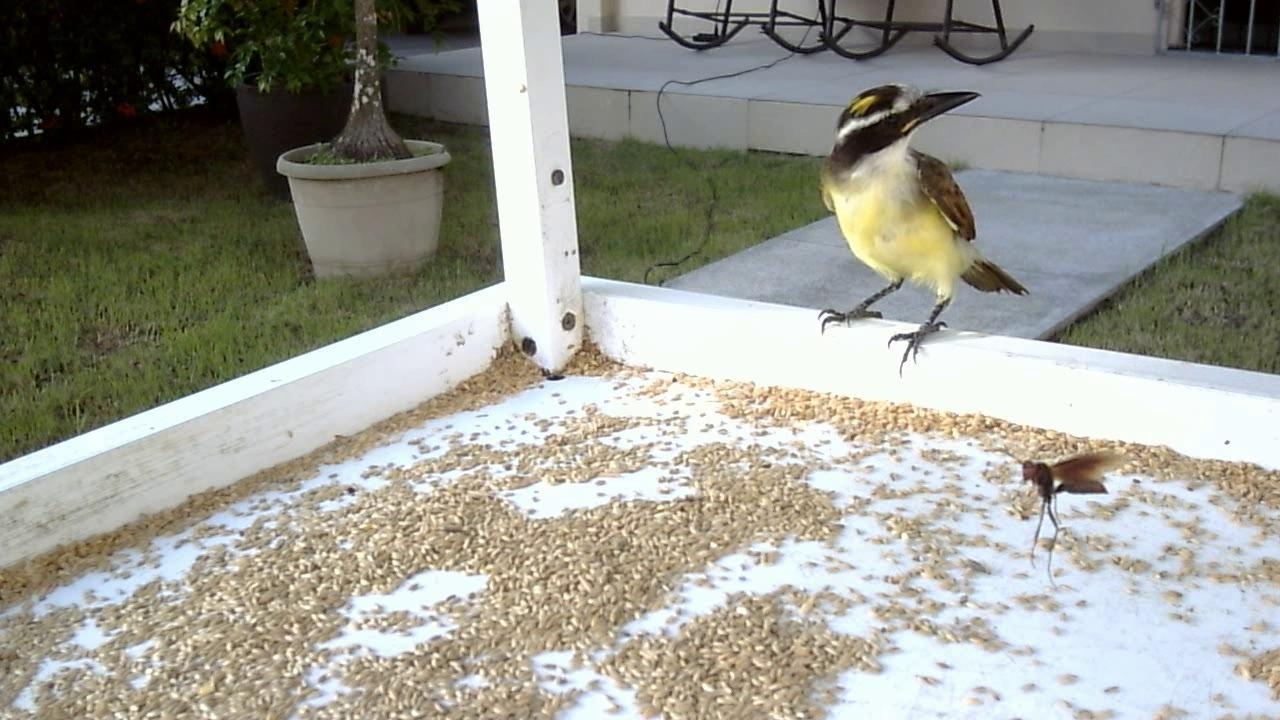bem_te_vi: (800, 78, 1035, 374)
